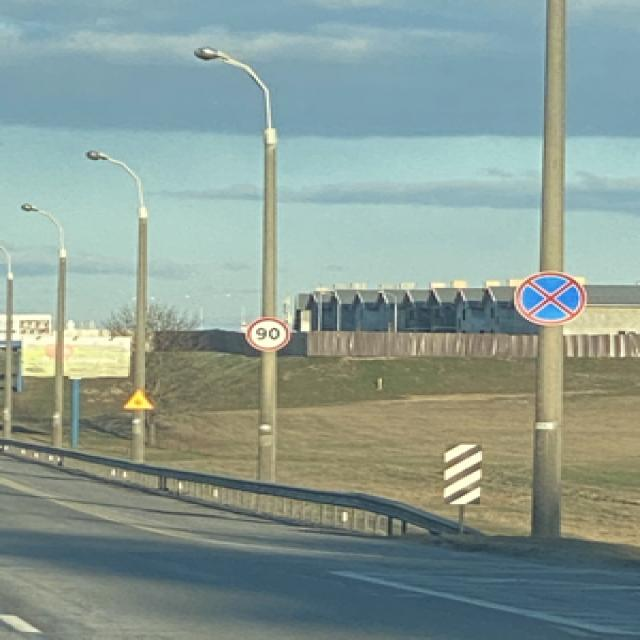speedlimit: (243, 317, 286, 349)
